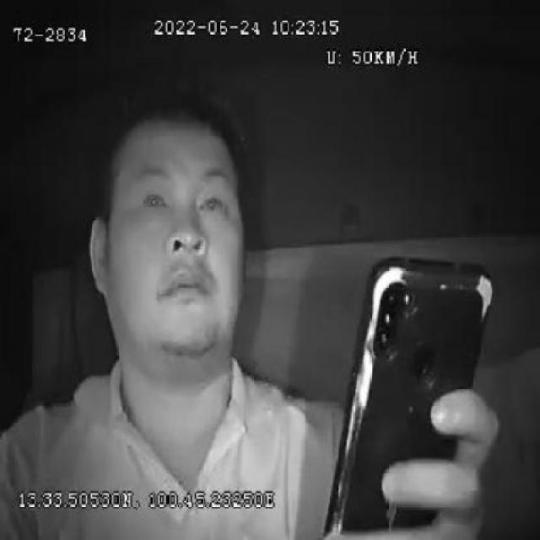phone: (323, 251, 491, 540)
